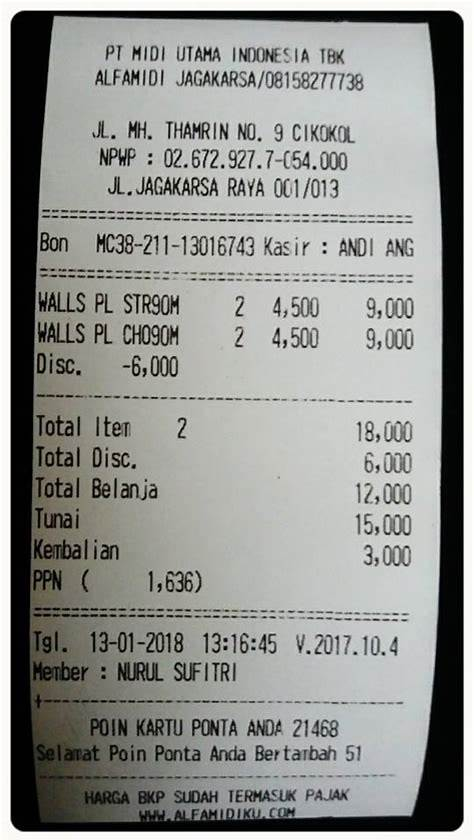total belanja: (30, 463, 428, 515)
